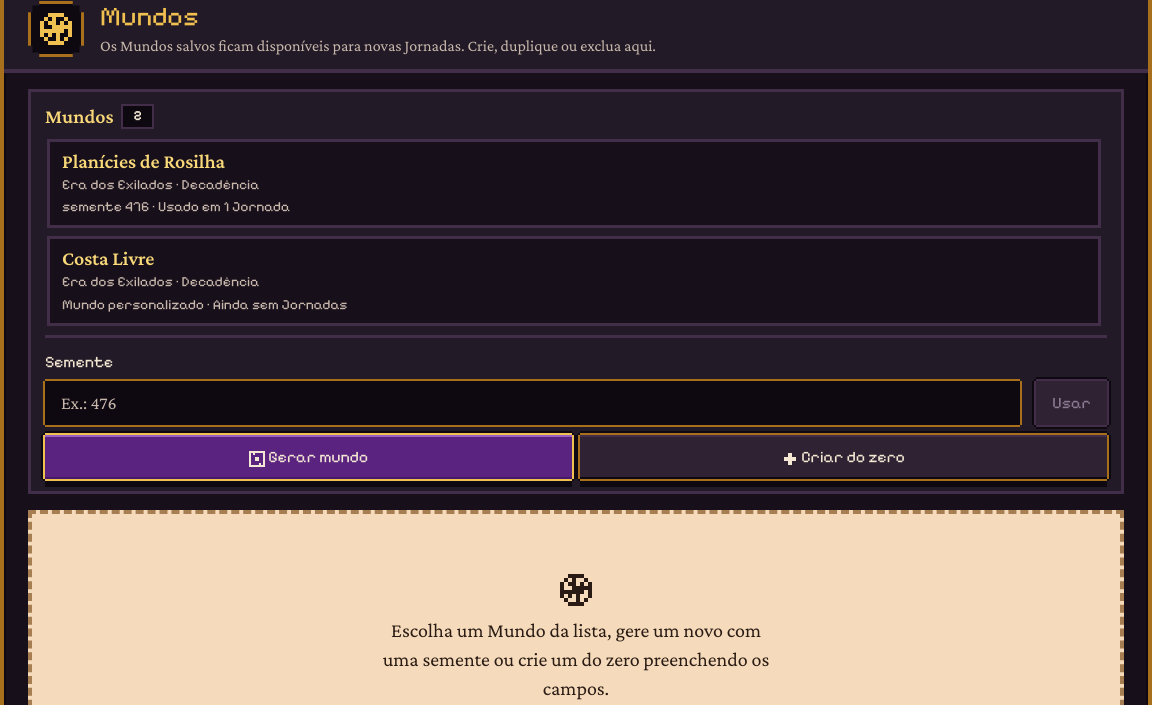
Test: Tela de Mundos (modelo provisório) › lista os Mundos salvos com semente ou Mundo personalizado e o uso; o detalhe é só leitura
expect the option "Costa Livre" shows "Mundo personalizado · Ainda sem Jornadas": met, box [47,236,1101,326]
Click the option "Planícies de Rosilha" at [144, 161], box [47,139,1101,228]
(page scrolled)
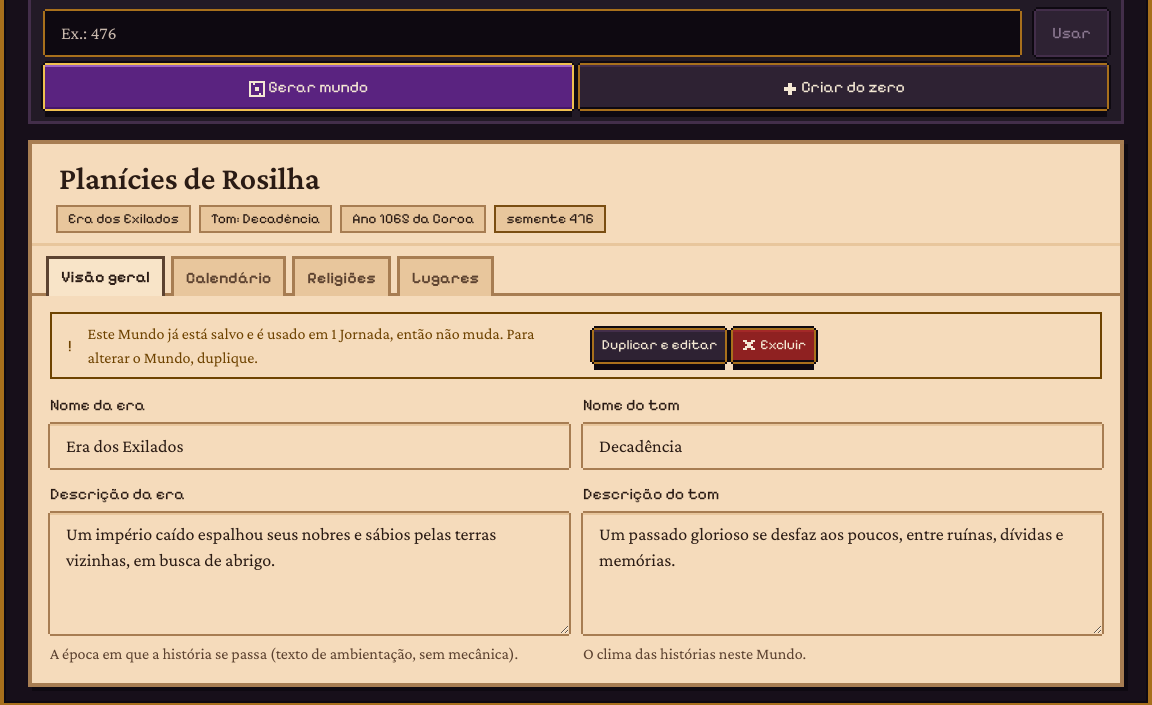
expect the button "Duplicar e editar" is shown: met, box [594,330,726,362]
